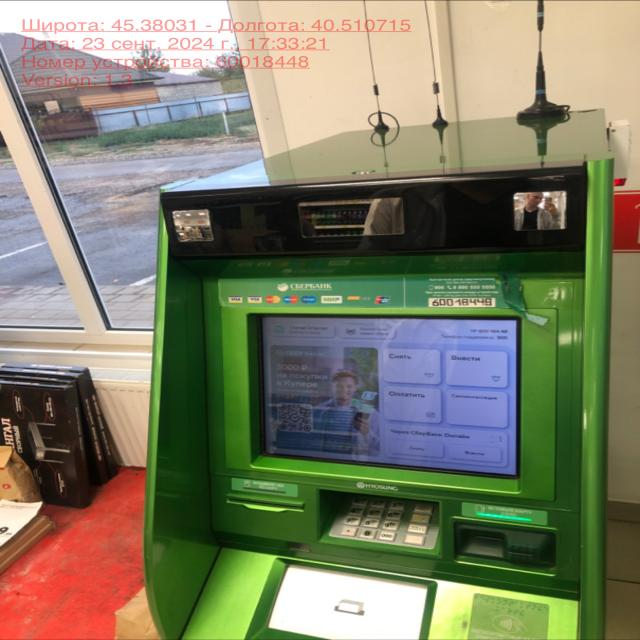bank: (141, 99, 603, 640)
